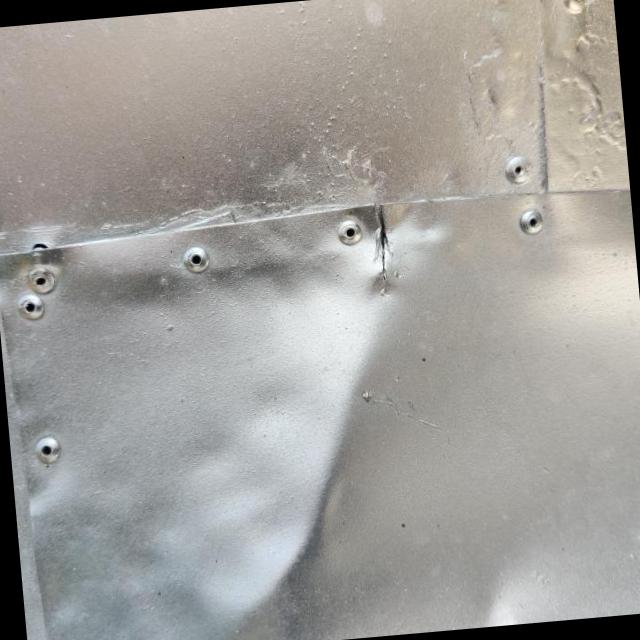Crack: (375, 204, 392, 294)
Dent: (203, 317, 396, 640)
